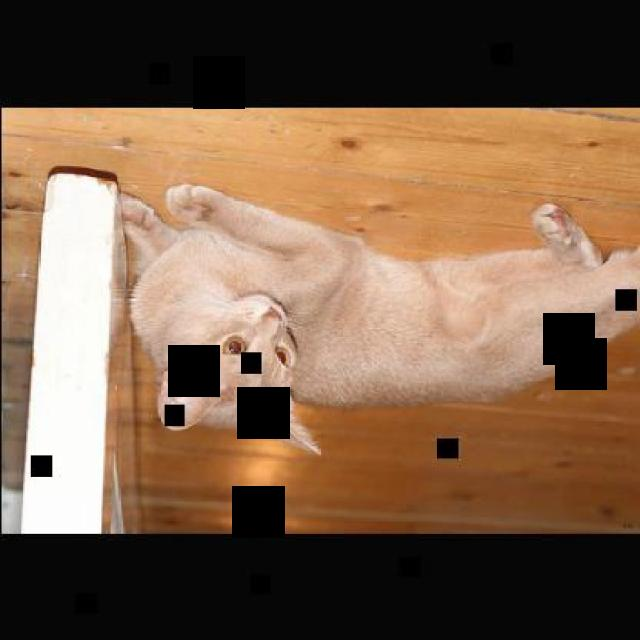unauthorized: (117, 182, 638, 456)
